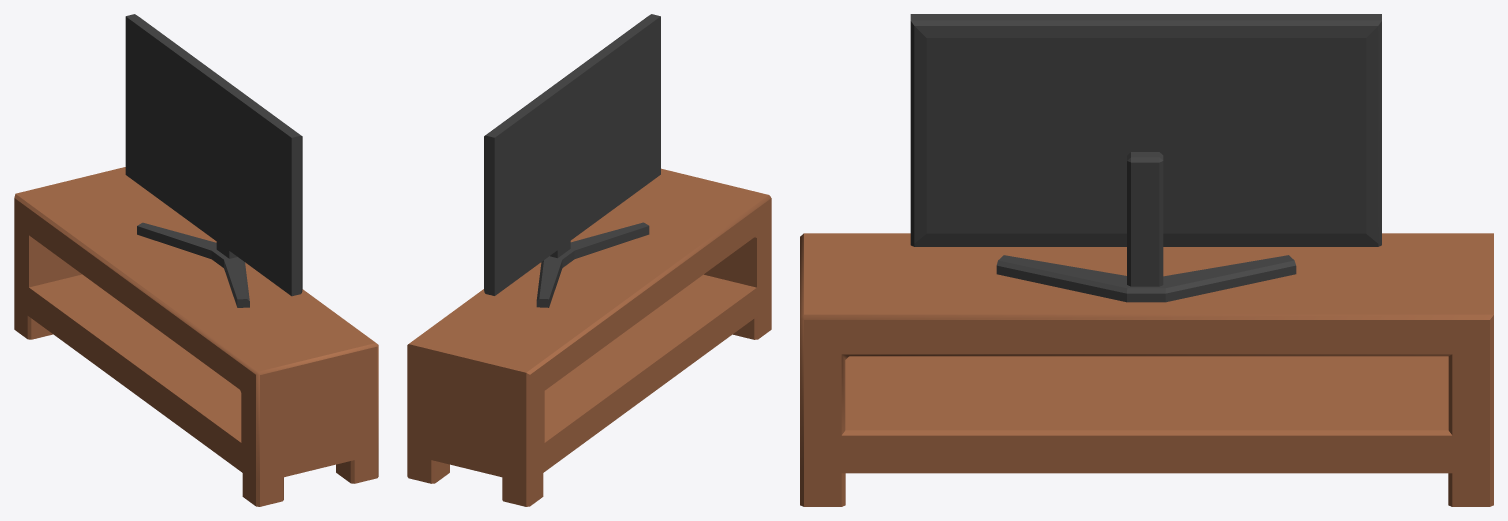
Rendered from 01_Table TV.fbx.
3 views of the same model, side by side, from view 1: azimuth 30°, elevation 25°; view 2: azimuth 150°, elevation 25°; view 3: azimuth 270°, elevation 25° (orthographic). The views are drawn at different scales.
Parts seen in each view (by area): view 1: Cube.091, Cube.050; view 2: Cube.091, Cube.050; view 3: Cube.091, Cube.050.
Part boxes in pixels (x1,y1,x2,y2): Cube.091: [14, 167, 378, 506]; Cube.050: [125, 14, 302, 307]; Cube.091: [407, 168, 771, 506]; Cube.050: [484, 14, 660, 307]; Cube.091: [800, 233, 1493, 506]; Cube.050: [910, 14, 1381, 302].
Bounding box in the file's own units: 2.53 × 6.37 × 8.73.
